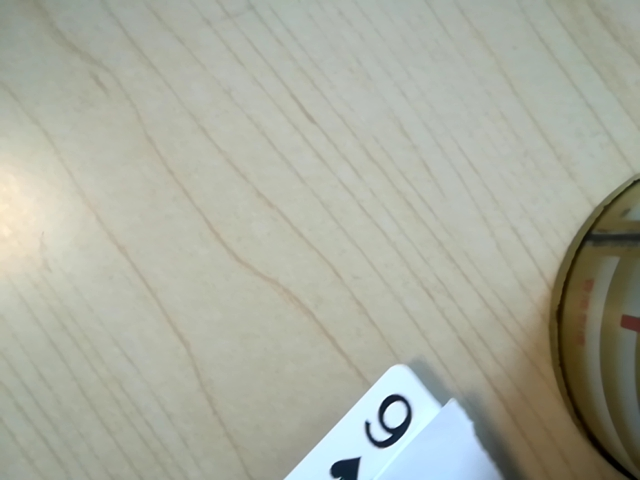ht 9: (323, 382, 430, 476)
